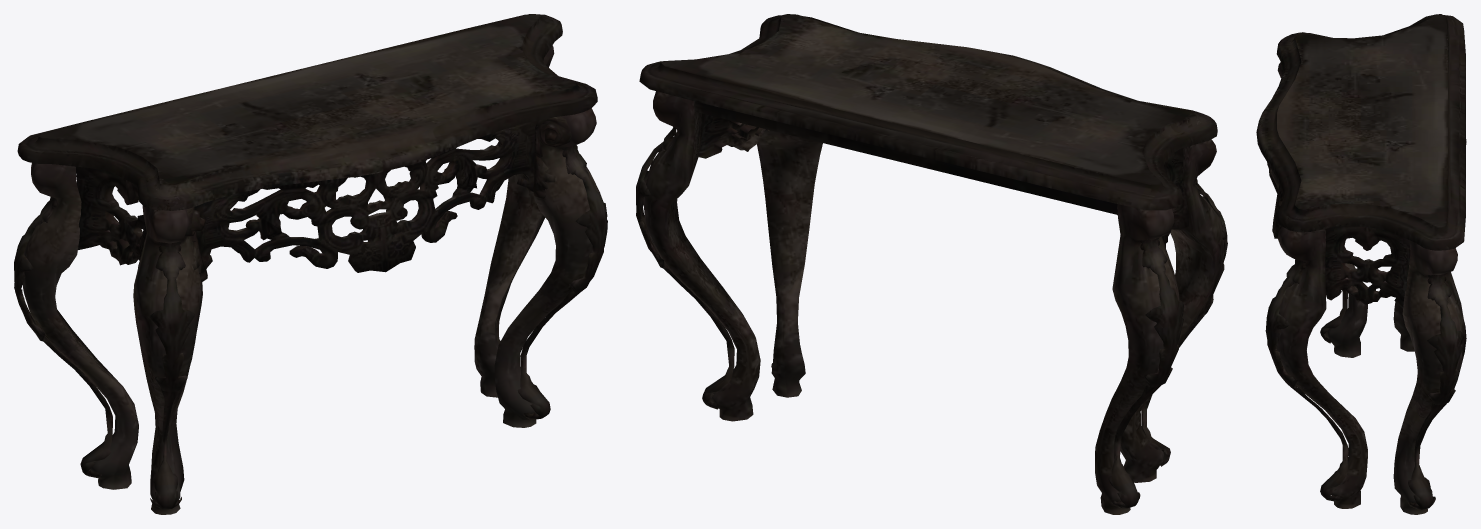
The model's file is ClassicConsole_01.glb.
3 views of the same model, side by side, from view 1: azimuth 30°, elevation 25°; view 2: azimuth 150°, elevation 25°; view 3: azimuth 270°, elevation 25° (orthographic). The views are drawn at different scales.
Visible parts, largest first — view 1: ClassicConsole_01; view 2: ClassicConsole_01; view 3: ClassicConsole_01.
Boxes of the visible parts, left/top/right/bottom form: ClassicConsole_01: left=14, top=14, right=607, bottom=514; ClassicConsole_01: left=636, top=14, right=1227, bottom=514; ClassicConsole_01: left=1256, top=14, right=1466, bottom=514.
Size of the model in its own units: 1.54 by 0.9491 by 0.5892.
1 material, 1 textured.
